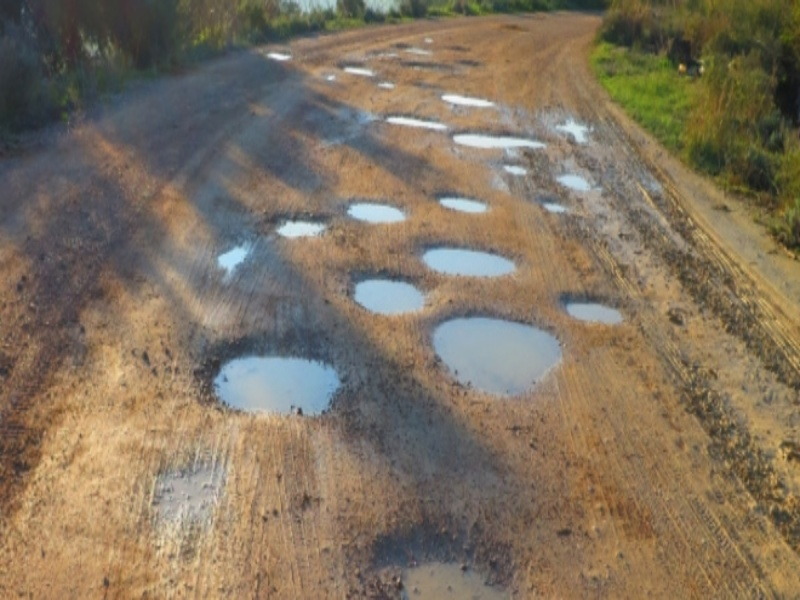pothole: (429, 307, 571, 397), (200, 343, 339, 423), (378, 533, 503, 600), (413, 239, 523, 279), (343, 271, 434, 315), (452, 125, 548, 155), (559, 293, 627, 328), (340, 198, 413, 226), (437, 187, 489, 218), (383, 107, 443, 133), (275, 213, 323, 240), (436, 90, 496, 111), (552, 117, 594, 143), (552, 170, 590, 194), (500, 160, 529, 182), (535, 197, 569, 214)
